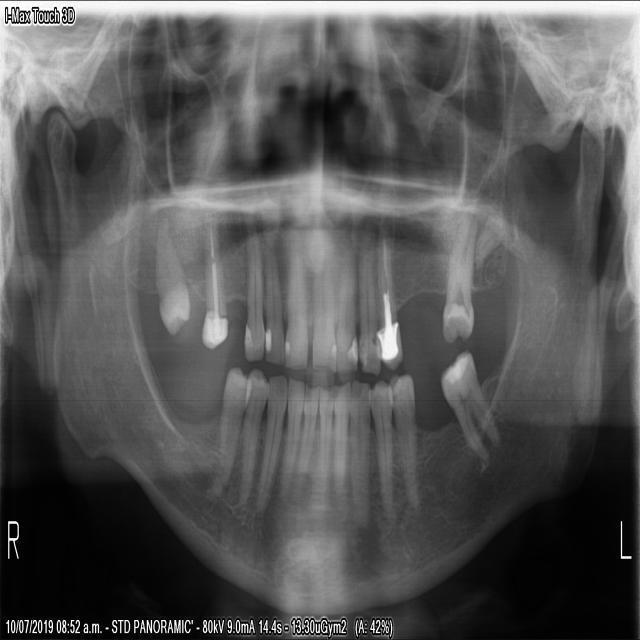LCD: (348, 378, 370, 523)
LCU: (356, 245, 381, 376)
LID: (330, 379, 349, 492), (316, 382, 332, 494)
LIU: (309, 233, 336, 373), (335, 233, 357, 372)
LMD: (435, 346, 501, 467)
LMU: (437, 215, 477, 345)
LPMD: (386, 371, 420, 505), (366, 374, 395, 515)
LPMU: (375, 241, 404, 368)
RCD: (249, 368, 288, 516)
RCU: (242, 231, 263, 362)
RID: (274, 373, 305, 497), (295, 376, 318, 497)
RIU: (283, 235, 310, 374), (260, 236, 284, 367)
RMU: (152, 232, 192, 337)
RPMD: (211, 357, 253, 489), (234, 361, 267, 507)
RPMU: (197, 221, 229, 354)
